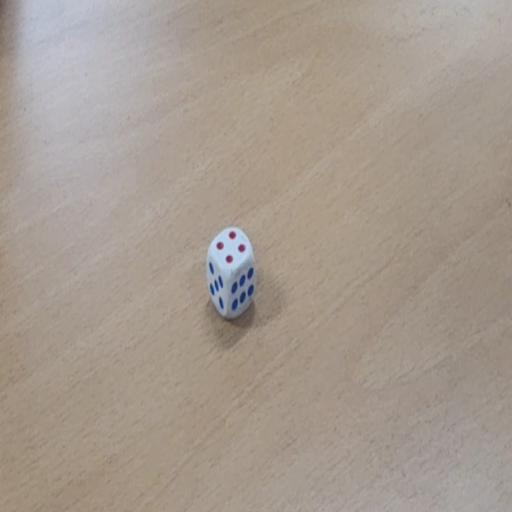dice_4: (205, 226, 259, 324)
